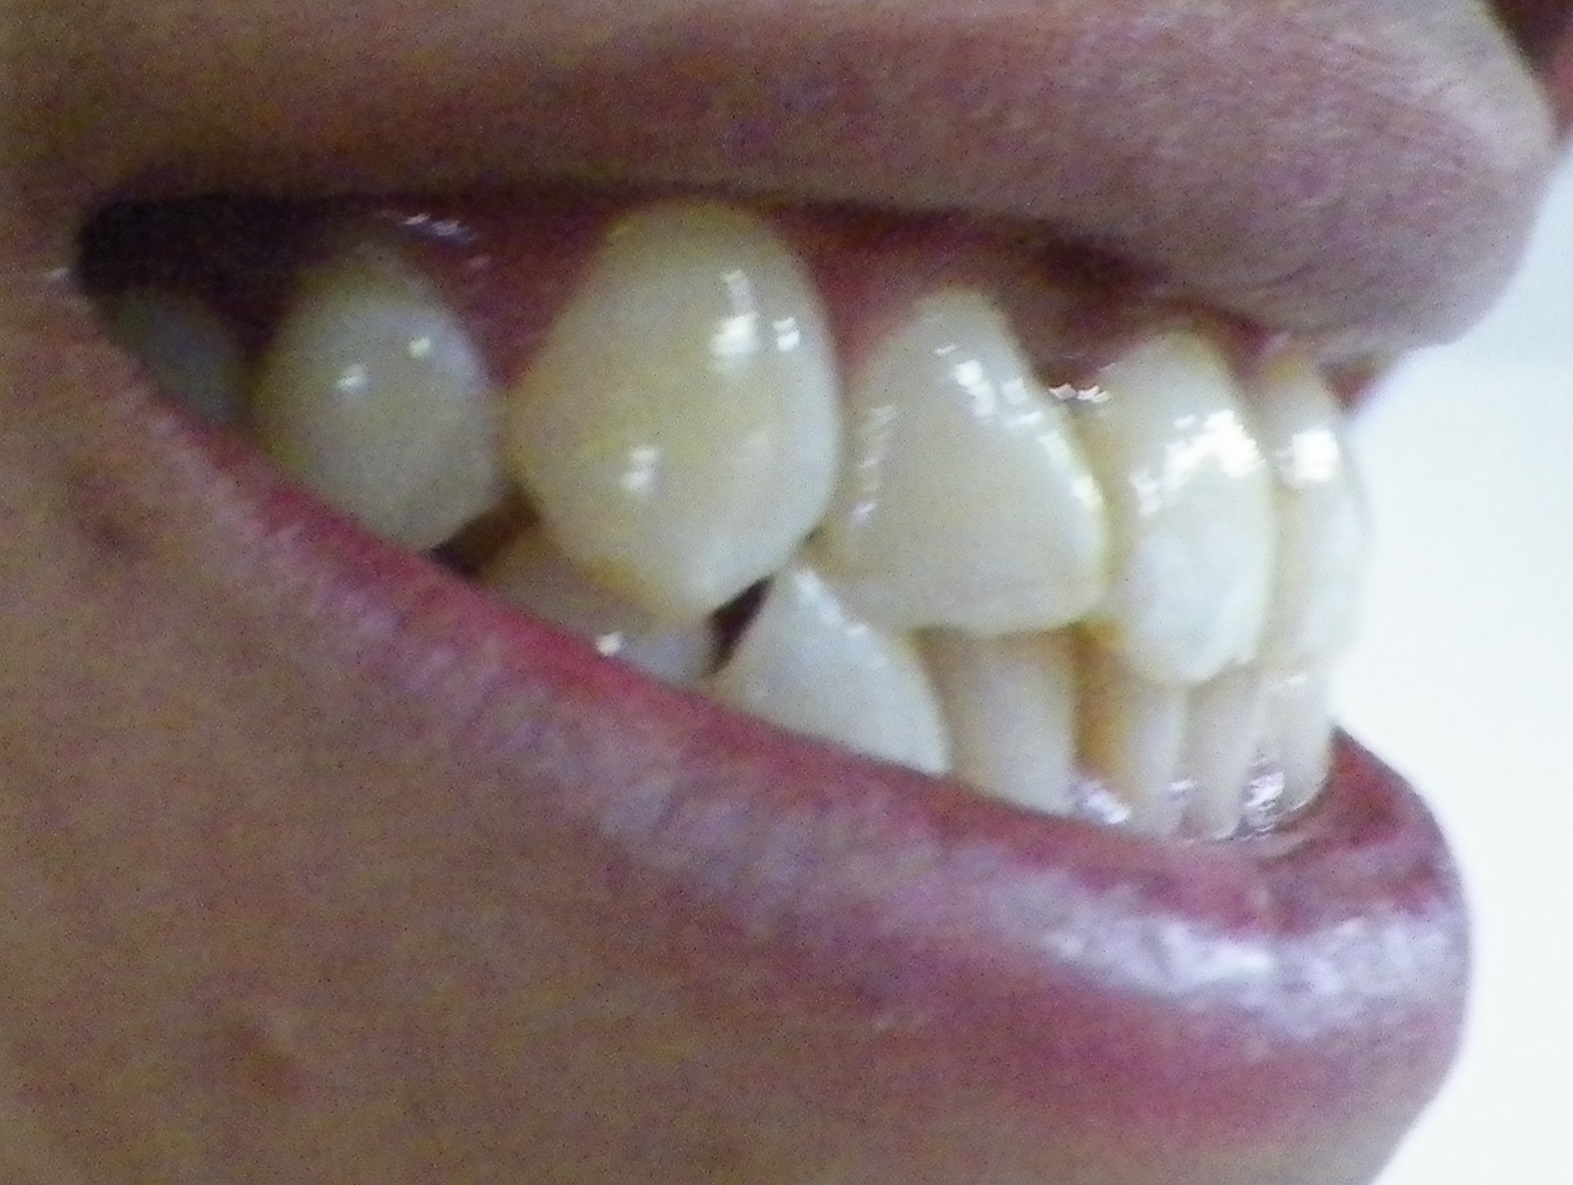boca: (137, 187, 1410, 808)
